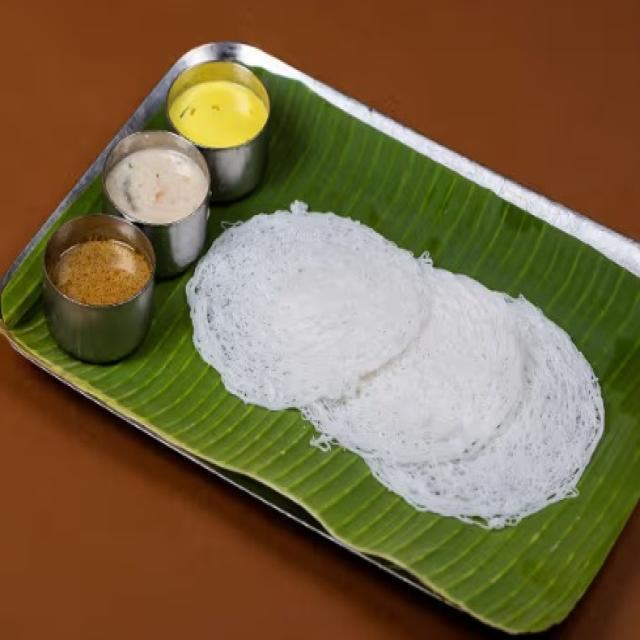CURRY: (50, 241, 148, 306)
IDIYAPPAM: (183, 203, 606, 532)
SWEET: (173, 74, 268, 145)
WHITE CHUTNEY: (104, 150, 202, 227)
